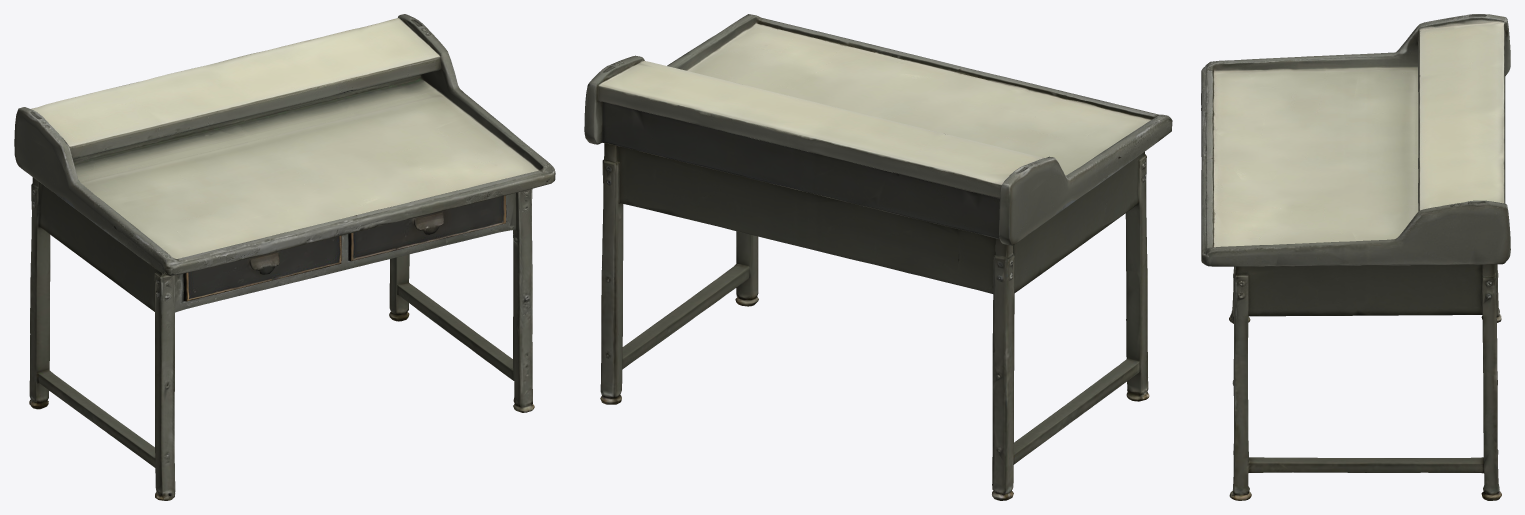
File: desk.glb
The picture shows the model from 3 angles, left to right: view 1: azimuth 30°, elevation 25°; view 2: azimuth 150°, elevation 25°; view 3: azimuth 270°, elevation 25°; orthographic projection. The views are drawn at different scales.
Bounding box in the file's own units: 0.9791 × 0.7172 × 0.6663.
Materials: 1 (1 with a texture image).
